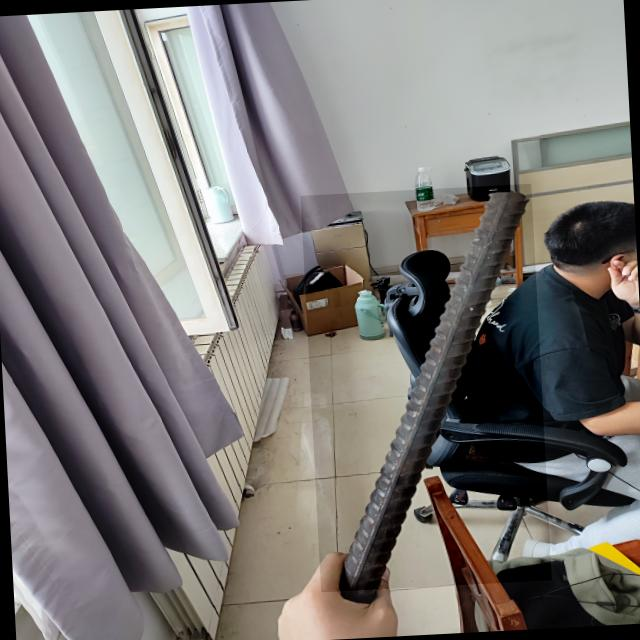ribbed bar: (300, 184, 552, 592)
